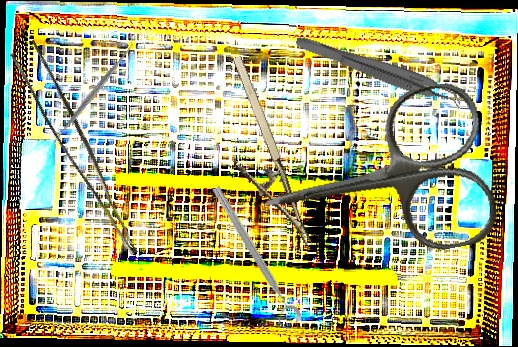Fixation Ring: (201, 183, 304, 332)
Iris Scissors: (249, 78, 502, 282)
Needle Holder: (201, 53, 313, 261)
Spatula Surgical: (45, 37, 141, 152)
Tissue Forceps: (3, 39, 162, 256), (291, 33, 466, 111)
